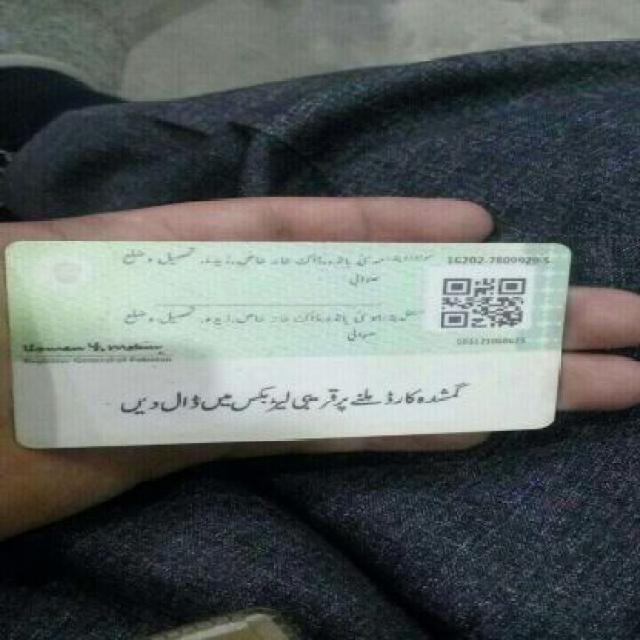Back: (5, 231, 569, 438)
